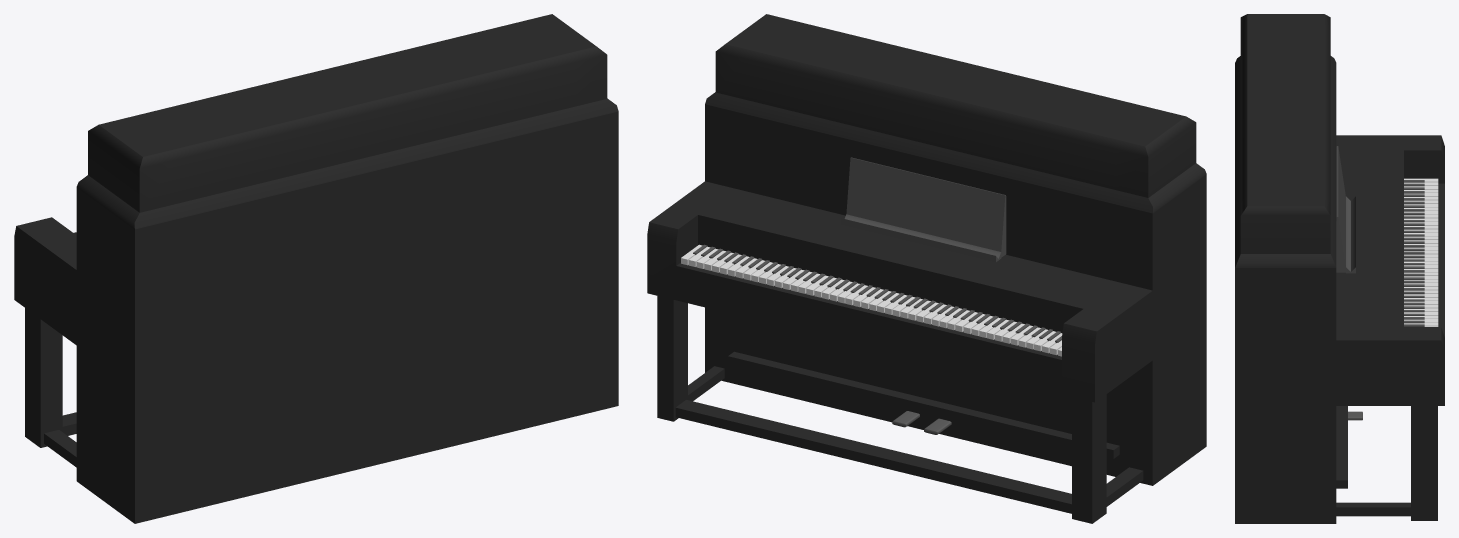
The model's file is PianoModel.fbx.
3 views of the same model, side by side, from view 1: azimuth 30°, elevation 25°; view 2: azimuth 150°, elevation 25°; view 3: azimuth 270°, elevation 25° (orthographic). The views are drawn at different scales.
Visible parts, largest first — view 1: PianoModel; view 2: PianoModel; view 3: PianoModel.
Part boxes in pixels (x1,y1,x2,y2): PianoModel: (14,14,618,523); PianoModel: (647,14,1206,523); PianoModel: (1235,14,1444,523).
Size of the model in its own units: 255 by 180 by 110.
